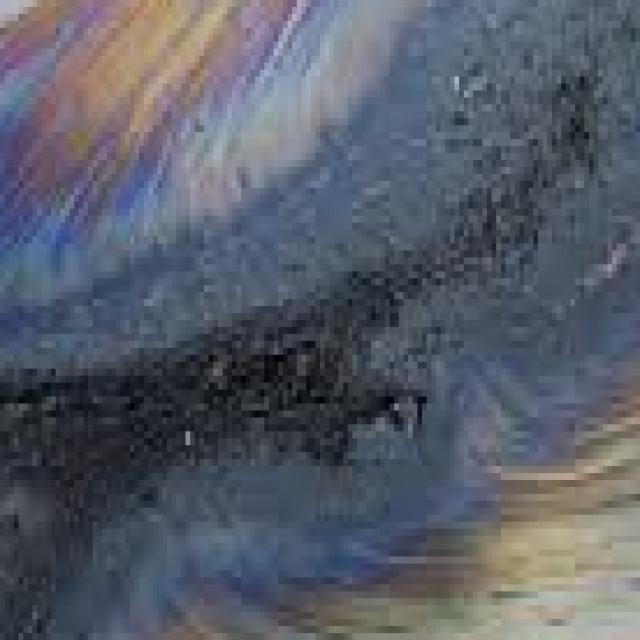-: (0, 0, 640, 640), (0, 0, 552, 390)
